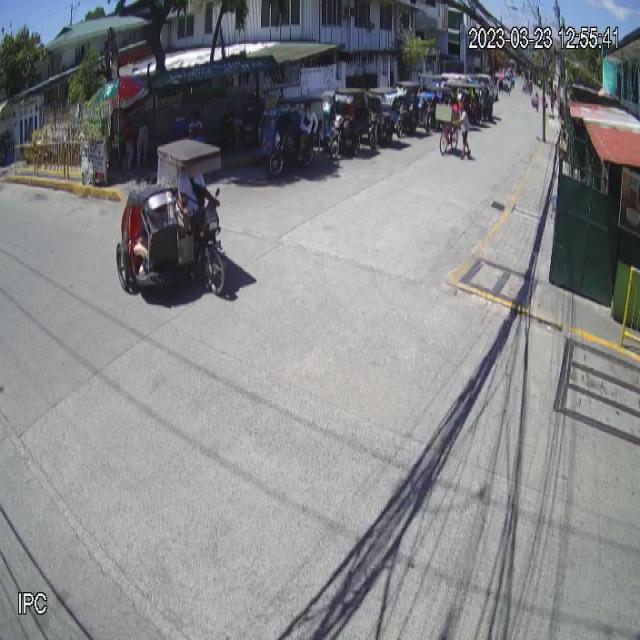Tricycle: (117, 140, 227, 300)
